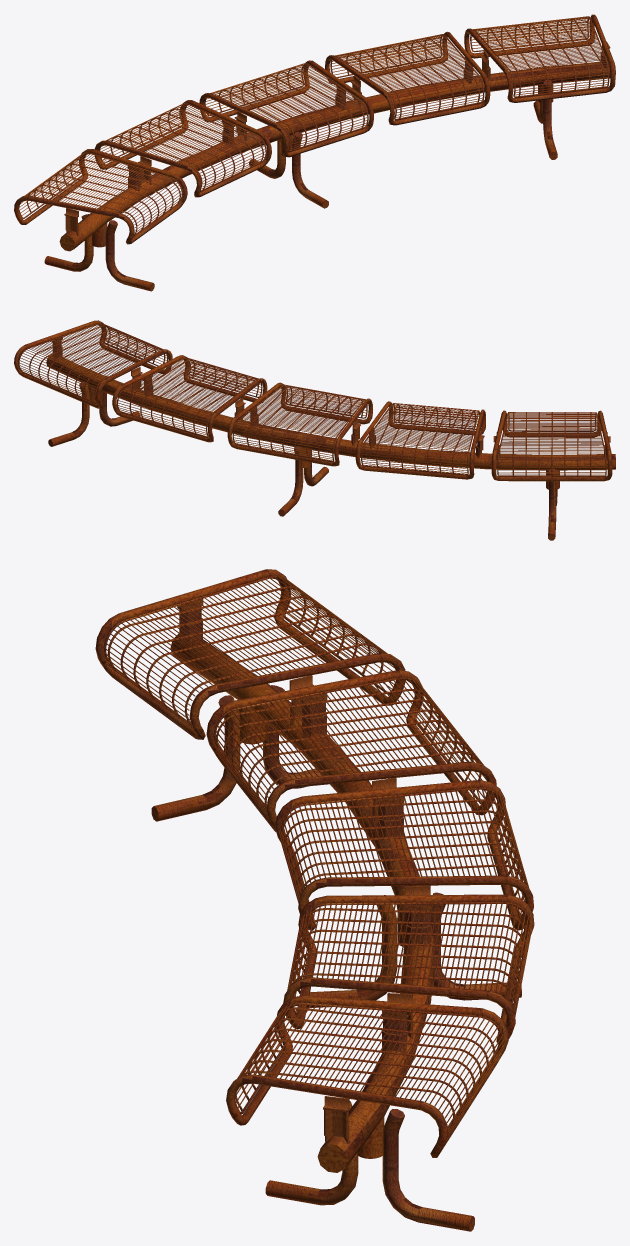
3 renders of one model, top to bottom at view 1: azimuth 30°, elevation 25°; view 2: azimuth 150°, elevation 25°; view 3: azimuth 270°, elevation 25°, orthographic. The views are drawn at different scales.
Parts seen in each view (by area): view 1: mesh195_mesh195-geometry, mesh1_mesh1-geometry, mesh6_mesh6-geometry, mesh7_mesh7-geometry, mesh189_mesh189-geometry, mesh4_mesh4-geometry, mesh2_mesh2-geometry, mesh185_mesh185-geometry, mesh187_mesh187-geometry, mesh37_mesh37-geometry, mesh28_mesh28-geometry, mesh23_mesh23-geometry (+48 smaller); view 2: mesh195_mesh195-geometry, mesh1_mesh1-geometry, mesh7_mesh7-geometry, mesh6_mesh6-geometry, mesh189_mesh189-geometry, mesh4_mesh4-geometry, mesh2_mesh2-geometry, mesh64_mesh64-geometry, mesh22_mesh22-geometry, mesh28_mesh28-geometry, mesh9_mesh9-geometry, mesh35_mesh35-geometry (+48 smaller); view 3: mesh1_mesh1-geometry, mesh7_mesh7-geometry, mesh6_mesh6-geometry, mesh195_mesh195-geometry, mesh189_mesh189-geometry, mesh2_mesh2-geometry, mesh185_mesh185-geometry, mesh183_mesh183-geometry, mesh187_mesh187-geometry, mesh192_mesh192-geometry, mesh28_mesh28-geometry, mesh37_mesh37-geometry (+11 smaller).
Part boxes in pixels (<box>): mesh195_mesh195-geometry: <box>62,62,615,248</box>; mesh1_mesh1-geometry: <box>26,19,604,237</box>; mesh6_mesh6-geometry: <box>14,28,560,244</box>; mesh7_mesh7-geometry: <box>54,14,615,226</box>; mesh189_mesh189-geometry: <box>44,79,557,291</box>; mesh4_mesh4-geometry: <box>53,17,609,219</box>; mesh2_mesh2-geometry: <box>19,30,560,234</box>; mesh185_mesh185-geometry: <box>65,45,608,232</box>; mesh187_mesh187-geometry: <box>66,52,607,236</box>; mesh37_mesh37-geometry: <box>30,17,589,195</box>; mesh28_mesh28-geometry: <box>27,16,589,195</box>; mesh23_mesh23-geometry: <box>46,24,592,198</box>; mesh195_mesh195-geometry: <box>46,354,615,470</box>; mesh1_mesh1-geometry: <box>29,325,591,476</box>; mesh7_mesh7-geometry: <box>14,320,551,481</box>; mesh6_mesh6-geometry: <box>59,349,612,481</box>; mesh189_mesh189-geometry: <box>48,375,557,540</box>; mesh4_mesh4-geometry: <box>18,323,551,476</box>; mesh2_mesh2-geometry: <box>60,350,606,477</box>; mesh64_mesh64-geometry: <box>19,368,605,474</box>; mesh22_mesh22-geometry: <box>23,350,605,455</box>; mesh28_mesh28-geometry: <box>25,349,604,453</box>; mesh9_mesh9-geometry: <box>33,345,603,448</box>; mesh35_mesh35-geometry: <box>50,340,601,439</box>; mesh1_mesh1-geometry: <box>107,586,528,1133</box>; mesh7_mesh7-geometry: <box>153,653,533,1157</box>; mesh6_mesh6-geometry: <box>95,569,534,1110</box>; mesh195_mesh195-geometry: <box>170,633,435,1172</box>; mesh189_mesh189-geometry: <box>151,685,521,1231</box>; mesh2_mesh2-geometry: <box>104,575,530,1076</box>; mesh185_mesh185-geometry: <box>179,606,430,1138</box>; mesh183_mesh183-geometry: <box>177,598,431,1112</box>; mesh187_mesh187-geometry: <box>180,619,430,1143</box>; mesh192_mesh192-geometry: <box>238,708,402,1158</box>; mesh28_mesh28-geometry: <box>276,574,513,1103</box>; mesh37_mesh37-geometry: <box>271,575,508,1101</box>.
Size of the model in its own units: 0.9378 by 0.1362 by 0.3193.
